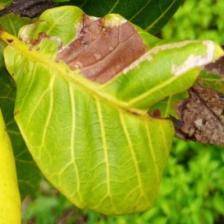leaf miner: (0, 4, 223, 216)
